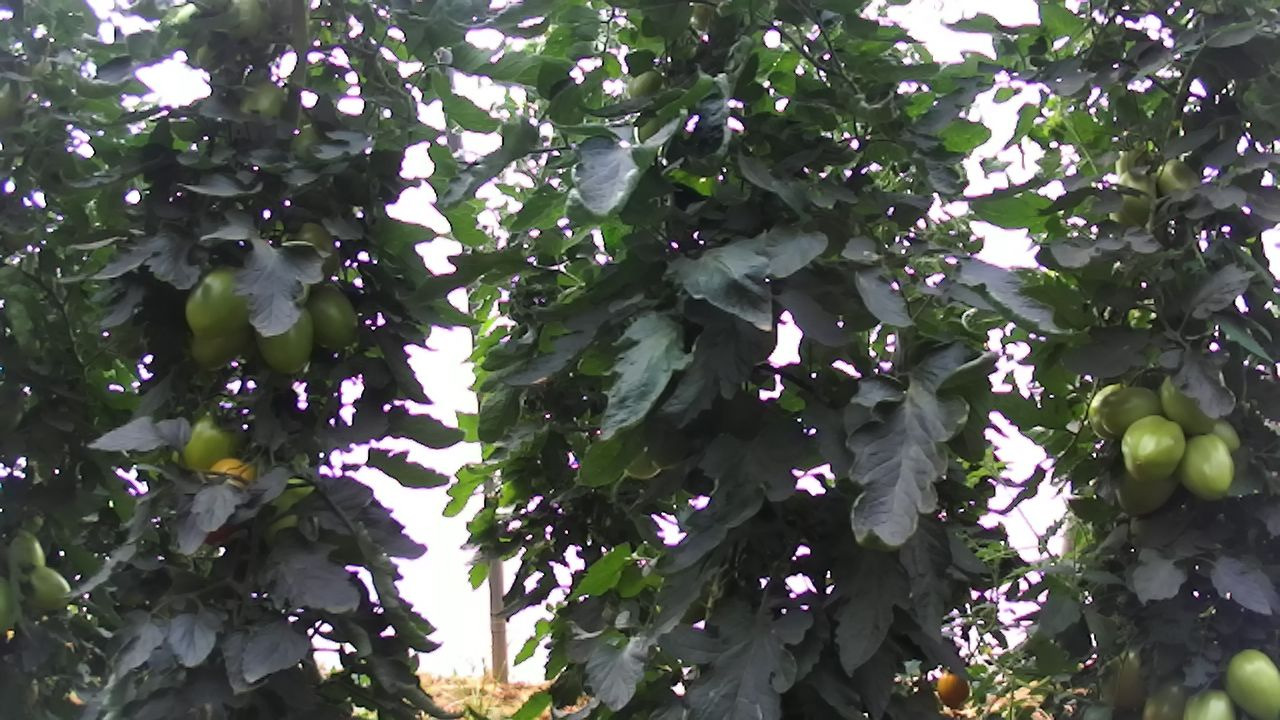tomato: (181, 264, 263, 345), (1116, 411, 1190, 485), (250, 297, 319, 375), (176, 409, 248, 474), (1174, 430, 1236, 504), (299, 282, 362, 354), (1221, 644, 1280, 720), (1098, 384, 1167, 443), (21, 562, 74, 617), (1175, 683, 1243, 720), (931, 669, 972, 710), (624, 66, 667, 101)
